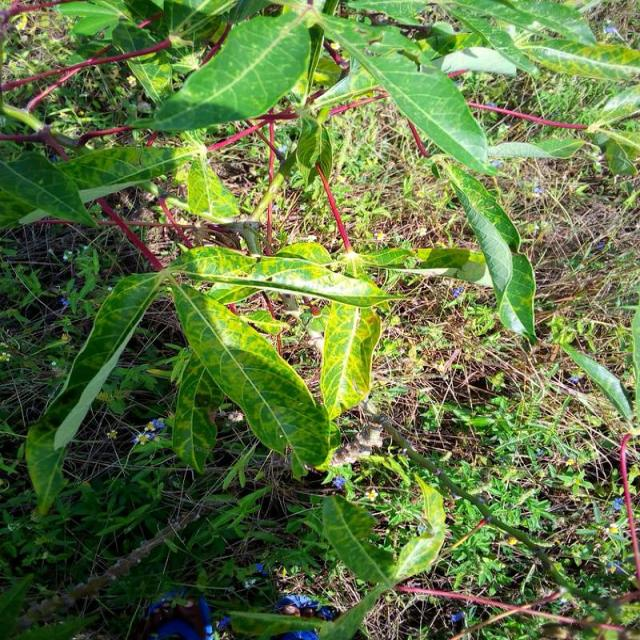cassava leaf: (170, 276, 335, 478), (318, 11, 498, 176), (132, 5, 314, 134), (442, 158, 538, 341)
